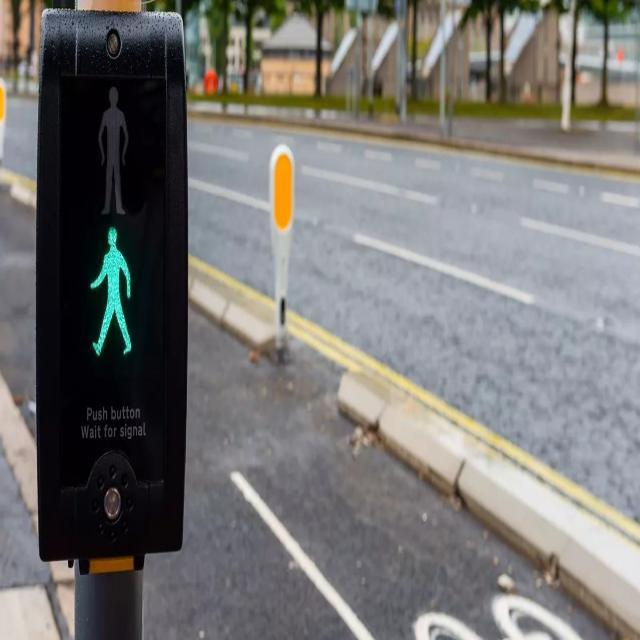green_light: (72, 222, 153, 363)
